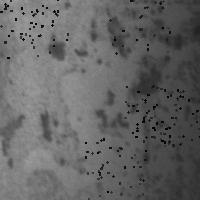pitted_surface: (64, 14, 200, 193), (85, 138, 145, 198), (124, 85, 182, 145), (0, 0, 57, 57), (142, 87, 199, 144), (109, 0, 169, 52), (11, 0, 67, 39), (1, 112, 27, 158), (45, 33, 67, 63)
